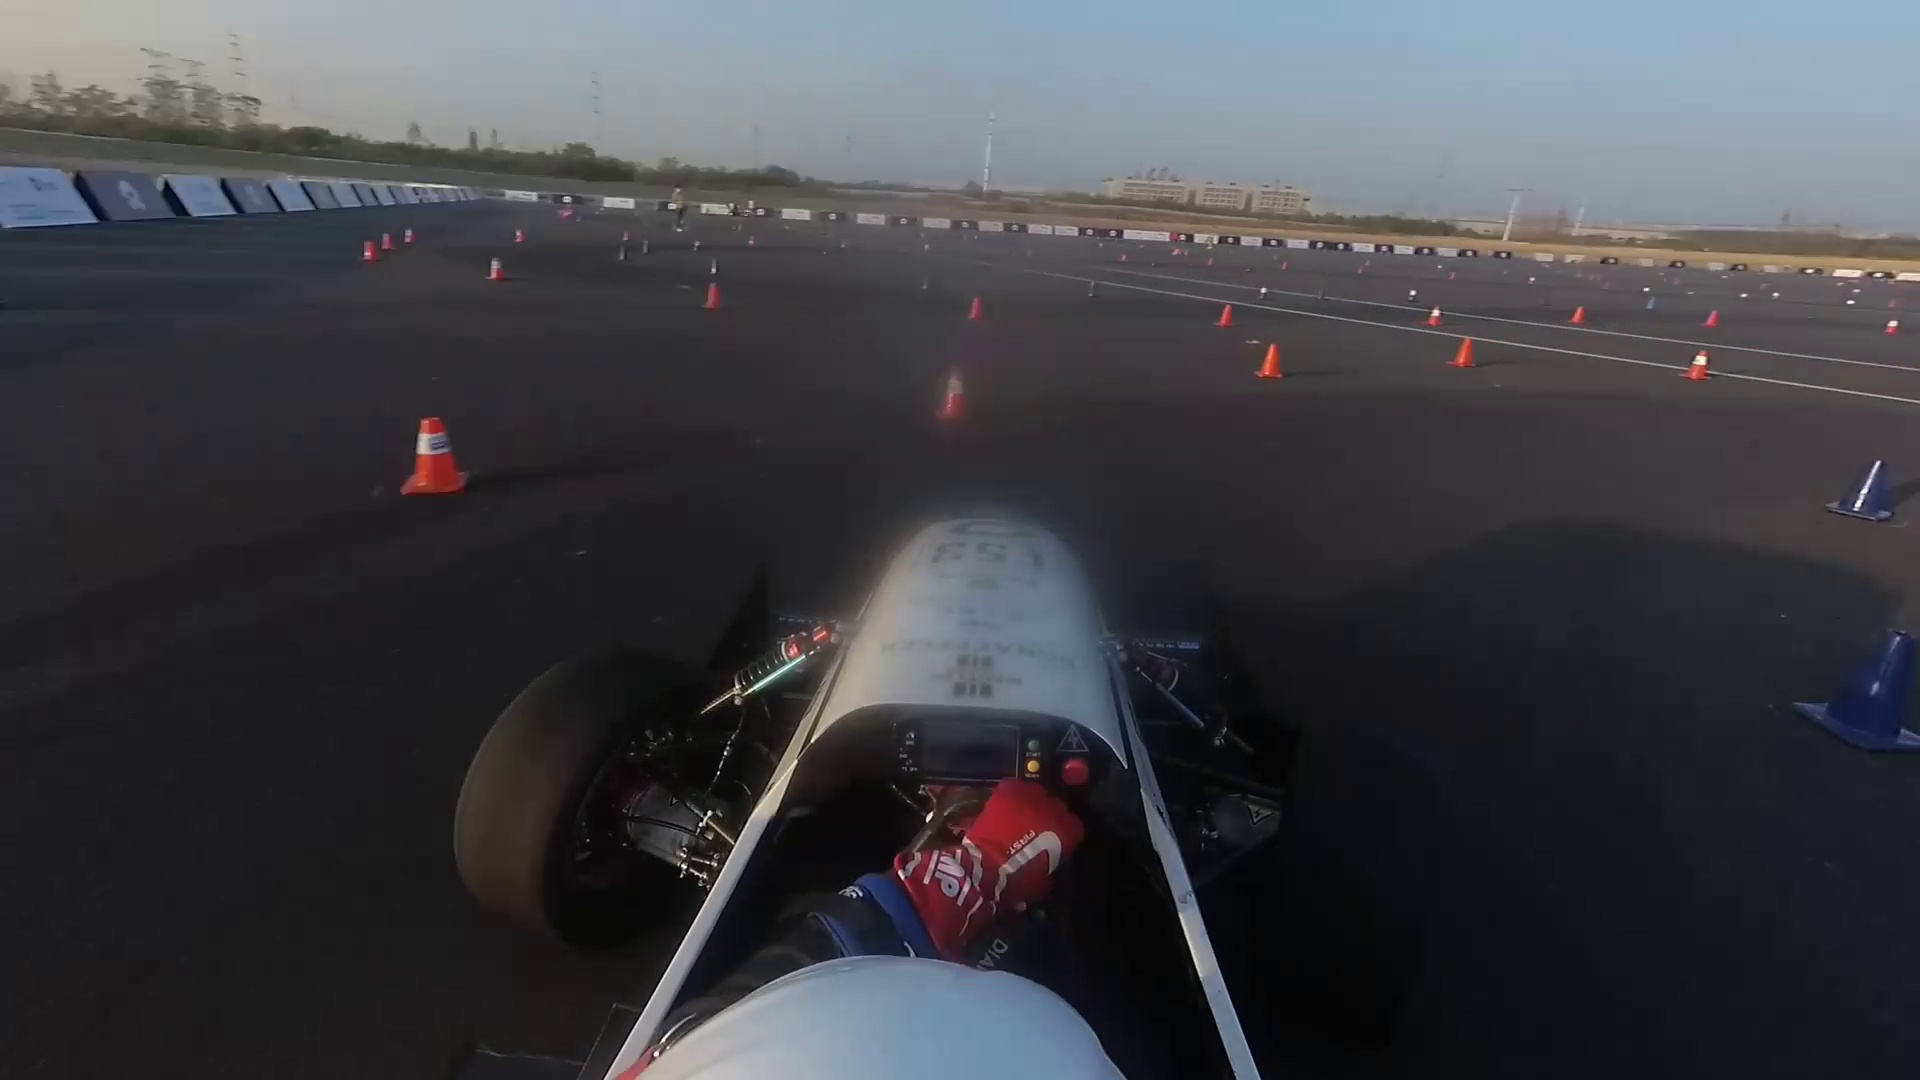blue_cone: (1805, 620, 1920, 758), (1832, 456, 1900, 527), (1257, 285, 1273, 305), (1312, 284, 1328, 301), (690, 233, 703, 251), (708, 261, 723, 276), (1087, 278, 1097, 298), (1407, 287, 1418, 303), (641, 241, 653, 255), (617, 247, 626, 260)
red_cone: (389, 418, 476, 501), (931, 367, 975, 421), (1679, 342, 1716, 388), (1255, 343, 1284, 381), (1451, 332, 1480, 371), (483, 253, 509, 284), (702, 285, 723, 310), (1215, 307, 1240, 327), (357, 240, 378, 262), (964, 295, 985, 316), (1425, 307, 1447, 328), (1884, 315, 1899, 339), (1706, 309, 1721, 331), (1571, 309, 1584, 327), (404, 225, 415, 245), (378, 233, 393, 248), (510, 229, 524, 243)
